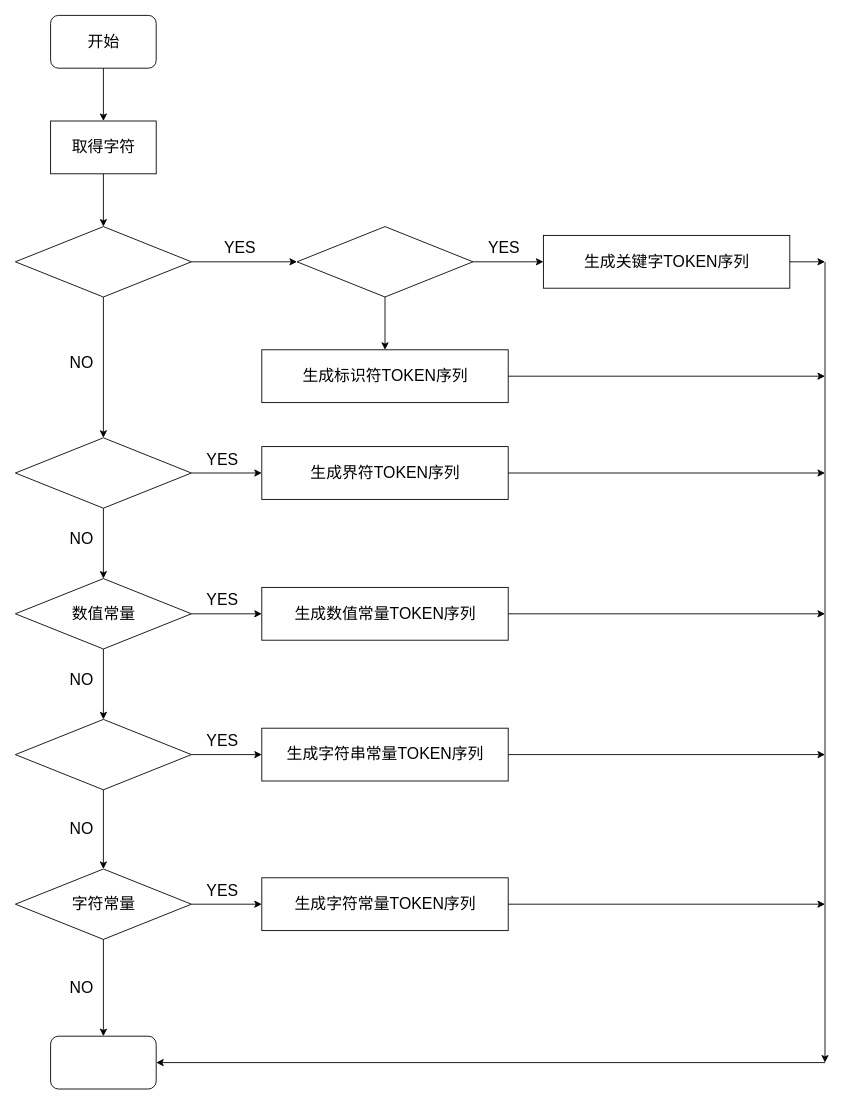
The diagram is 847 pixels wide and 1104 high, and some of its shapes have lost their labels. Each missing label, with the centre of its shape:
关键词或标识符: pixel 103 261
在关键字表中: pixel 384 261
字符串常量: pixel 103 754
界符: pixel 103 472
结束: pixel 103 1062
